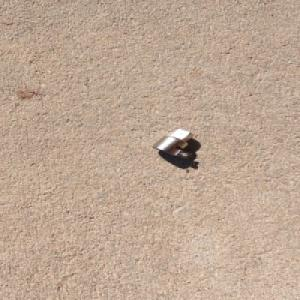MetalPart: (150, 127, 196, 160)
